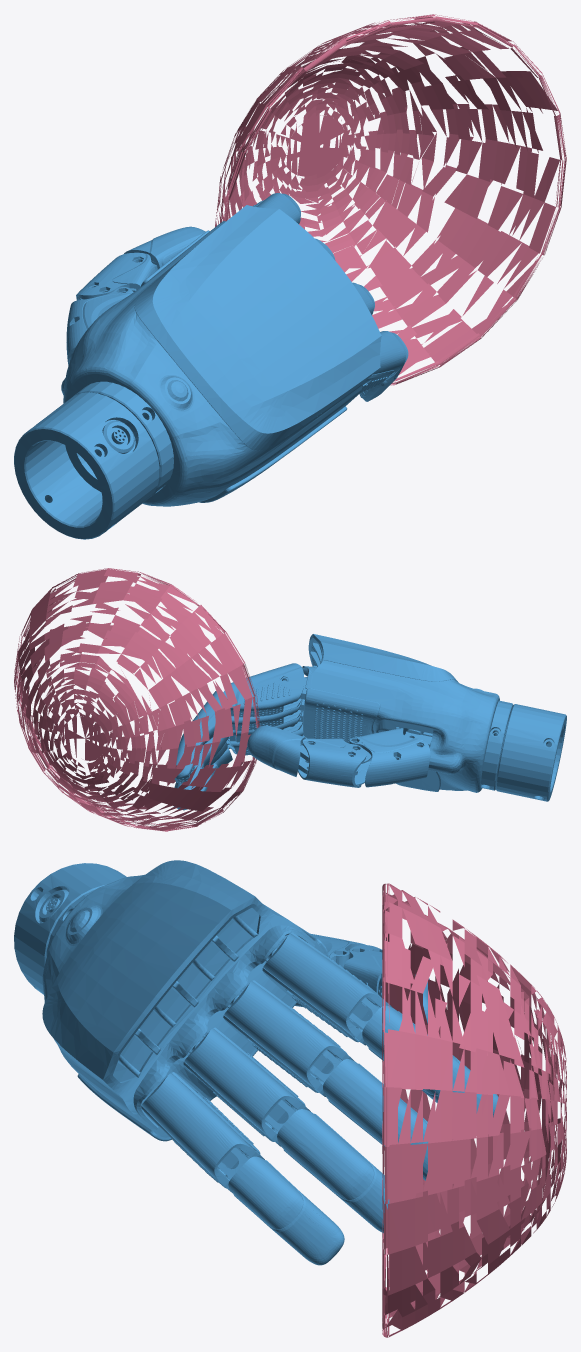
3 renders of one model, top to bottom at view 1: azimuth 30°, elevation 25°; view 2: azimuth 150°, elevation 25°; view 3: azimuth 270°, elevation 25°, orthographic. The views are drawn at different scales.
Parts seen in each view (by area): view 1: 2; view 2: 2; view 3: 2.
Boxes of the visible parts, x1,y1,x2,y2 form: 2: [14, 14, 566, 539]; 2: [14, 568, 566, 831]; 2: [14, 860, 566, 1337].
Size of the model in its own units: 0.299 by 0.1584 by 0.1917.
